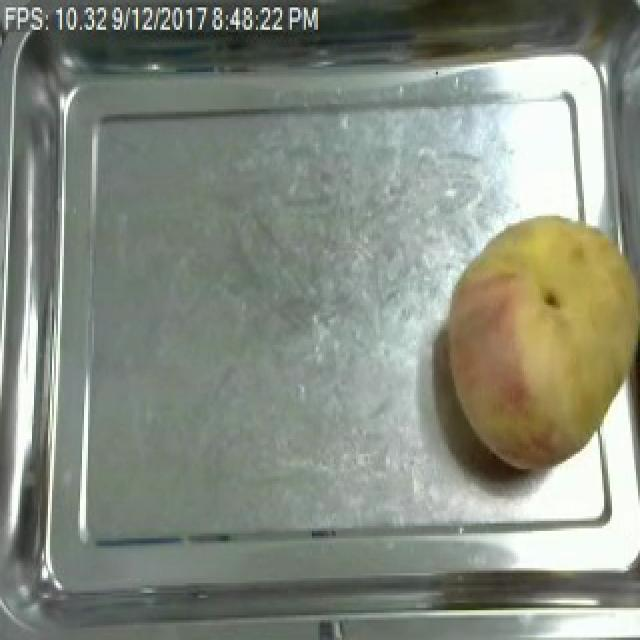Fruit: (432, 201, 640, 479)
